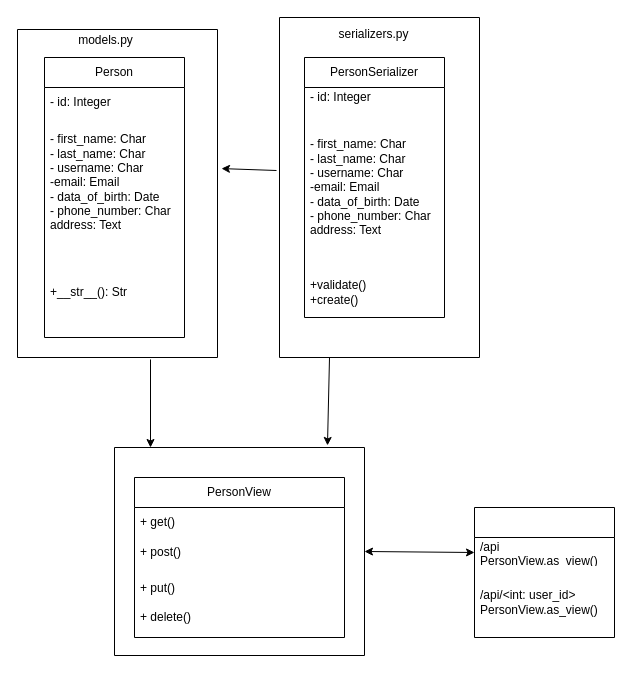
The diagram is 632 pixels wide and 673 high, and some of its shapes have lost their labels. Here are the shapes that lost their labels. From the top down, the box of each, then its label:
(114, 446, 364, 656): views.py
(474, 506, 614, 638): urls.py
